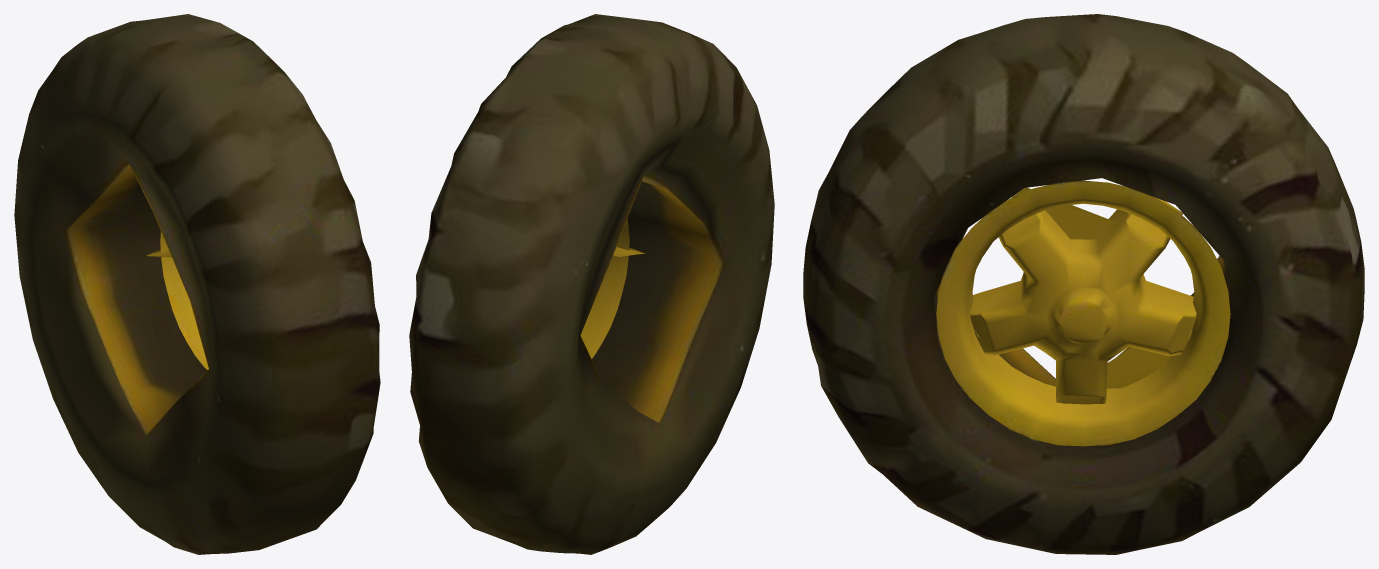
Rendered from kart_wheel.glb.
3 renders of one model, left to right at view 1: azimuth 30°, elevation 25°; view 2: azimuth 150°, elevation 25°; view 3: azimuth 270°, elevation 25°, orthographic. The views are drawn at different scales.
Visible parts, largest first — view 1: tripo_node_01000a20-29cf-4841-8841-c5c1170a5bbc; view 2: tripo_node_01000a20-29cf-4841-8841-c5c1170a5bbc; view 3: tripo_node_01000a20-29cf-4841-8841-c5c1170a5bbc.
Part boxes in pixels (x1=…): tripo_node_01000a20-29cf-4841-8841-c5c1170a5bbc: x1=14, y1=14, x2=380, y2=554; tripo_node_01000a20-29cf-4841-8841-c5c1170a5bbc: x1=409, y1=14, x2=774, y2=554; tripo_node_01000a20-29cf-4841-8841-c5c1170a5bbc: x1=803, y1=14, x2=1364, y2=554.
Bounding box in the file's own units: 0.3262 × 0.998 × 0.998.
1 material, 1 textured.
